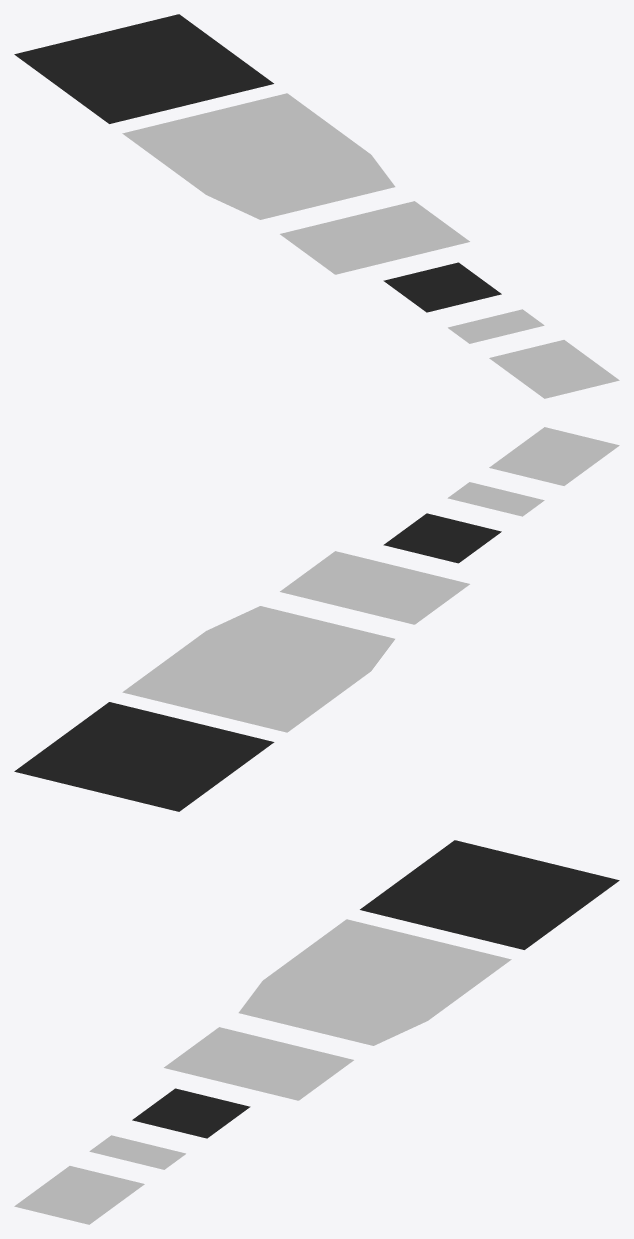
The model's file is streets.fbx.
3 views of the same model, one above another, from view 1: azimuth 30°, elevation 25°; view 2: azimuth 150°, elevation 25°; view 3: azimuth 330°, elevation 25° (orthographic).
Visible parts, largest first — view 1: street_twotothreeleft, street_intersection_threelane, street_10m_twolane, street_10m_singlelane, street_intersection_twolane, street_4m_singlelane; view 2: street_twotothreeleft, street_intersection_threelane, street_10m_twolane, street_10m_singlelane, street_intersection_twolane, street_4m_singlelane; view 3: street_twotothreeleft, street_intersection_threelane, street_10m_twolane, street_10m_singlelane, street_intersection_twolane, street_4m_singlelane.
Boxes of the visible parts, x1,y1,x2,y2 form: street_twotothreeleft: [122, 93, 395, 219]; street_intersection_threelane: [14, 14, 273, 123]; street_10m_twolane: [280, 201, 469, 274]; street_10m_singlelane: [489, 340, 619, 398]; street_intersection_twolane: [383, 262, 501, 312]; street_4m_singlelane: [448, 309, 544, 343]; street_twotothreeleft: [122, 606, 394, 732]; street_intersection_threelane: [14, 702, 274, 811]; street_10m_twolane: [280, 551, 469, 624]; street_10m_singlelane: [489, 427, 619, 485]; street_intersection_twolane: [383, 513, 501, 563]; street_4m_singlelane: [447, 482, 544, 516]; street_twotothreeleft: [238, 919, 511, 1045]; street_intersection_threelane: [360, 840, 619, 949]; street_10m_twolane: [164, 1027, 353, 1100]; street_10m_singlelane: [14, 1166, 144, 1224]; street_intersection_twolane: [132, 1088, 250, 1138]; street_4m_singlelane: [89, 1135, 185, 1169].
Bounding box in the file's own units: 1710 × 0.5336 × 8709.
